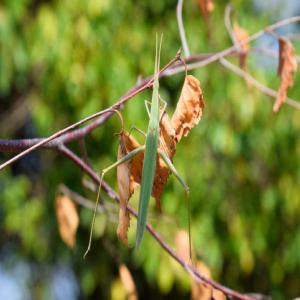locust: (101, 29, 181, 251)
